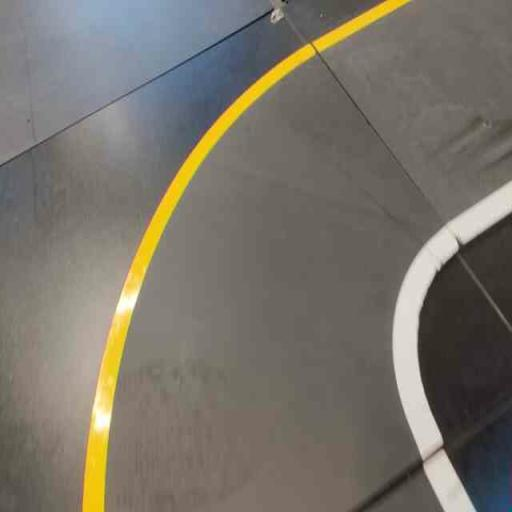right: (79, 14, 511, 511)
